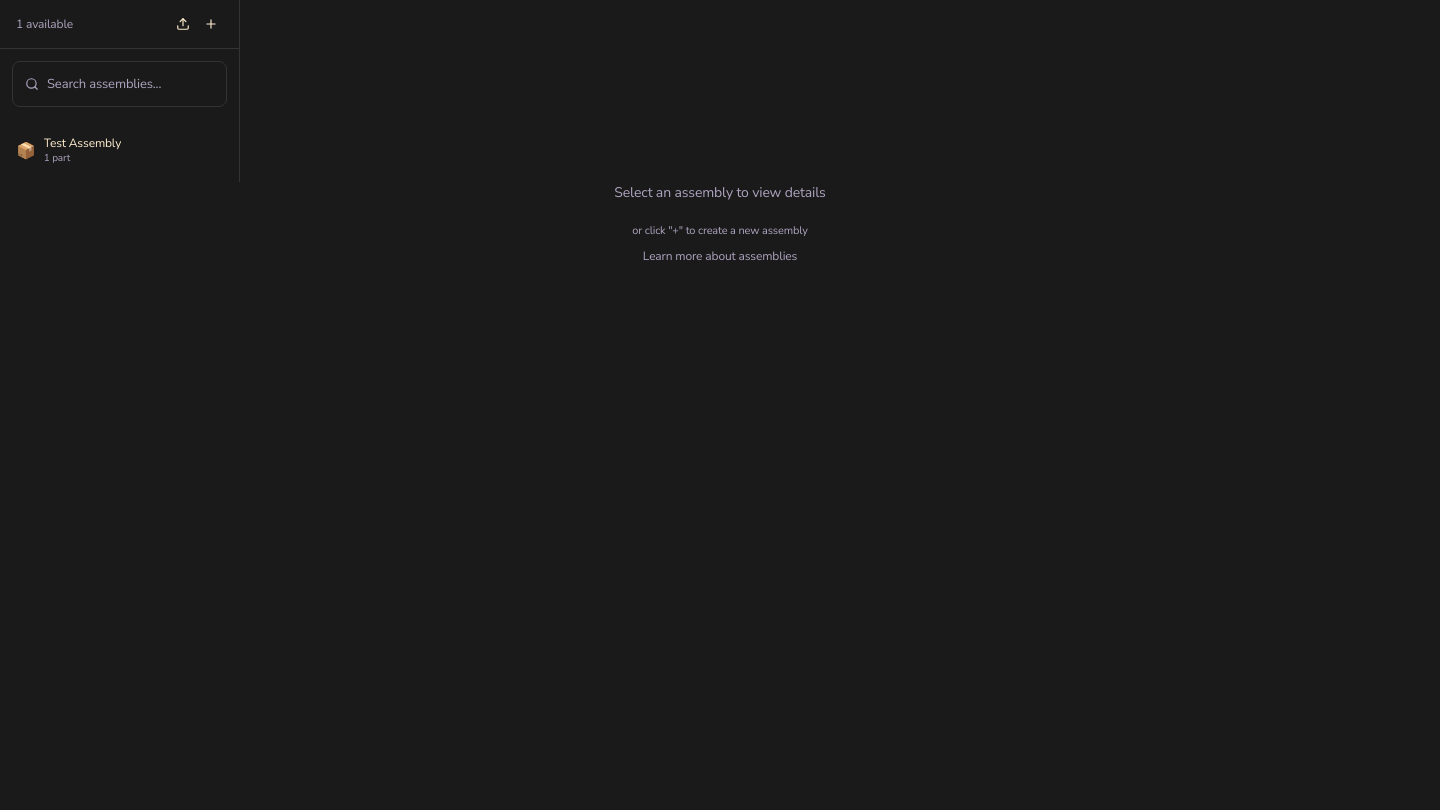
Scenario: AssembliesTab › assembly selection › shows detail panel when assembly is selected
Click the text "Test Assembly" at (82,143), box [44,135,121,151]
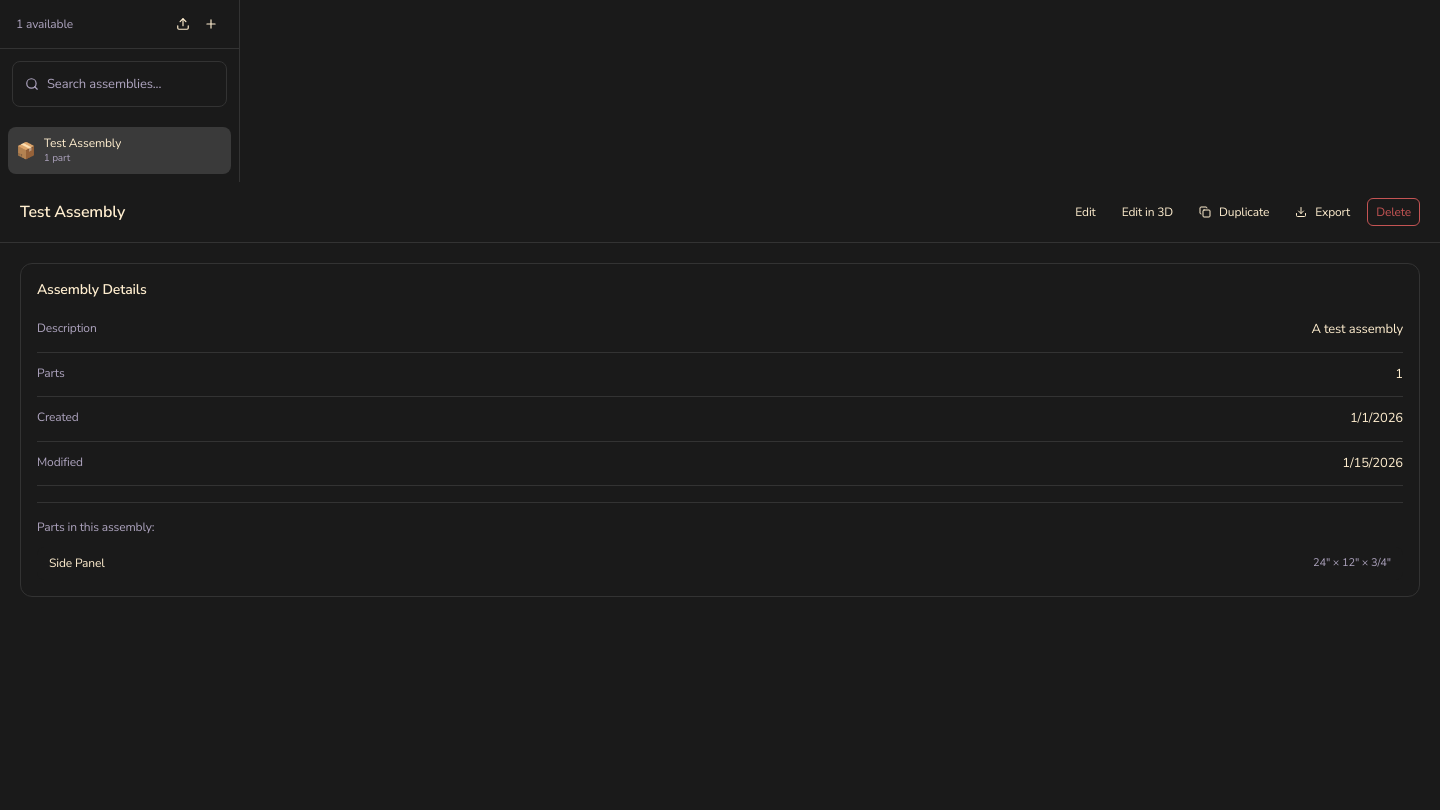
Check: the text "A test assembly" is shown, box [1311,320,1403,340]
